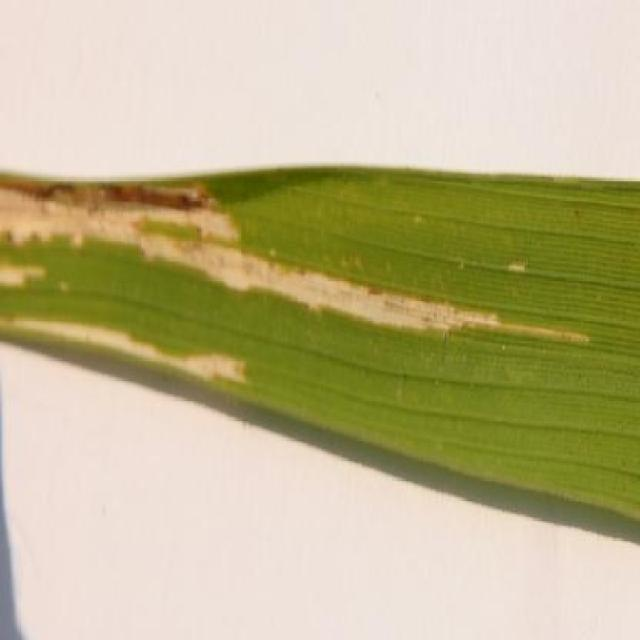Brown_Spot: (0, 145, 640, 526)
